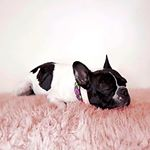puppy: (9, 52, 135, 111)
